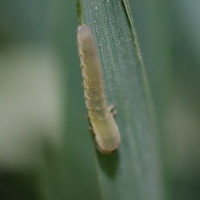insect: (77, 24, 120, 152), (77, 24, 120, 152)
